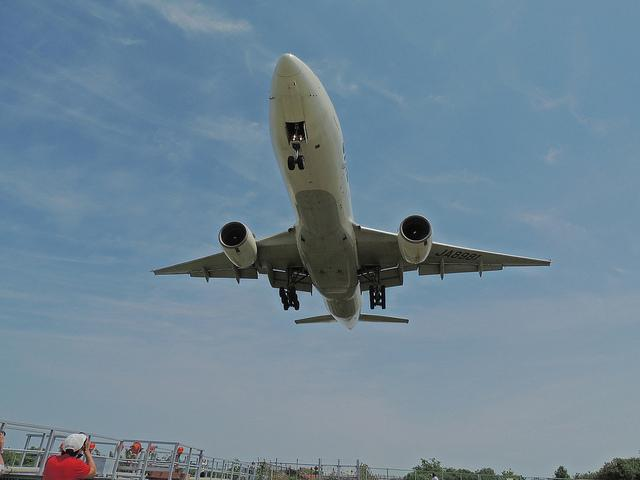airplane: (146, 48, 552, 332)
